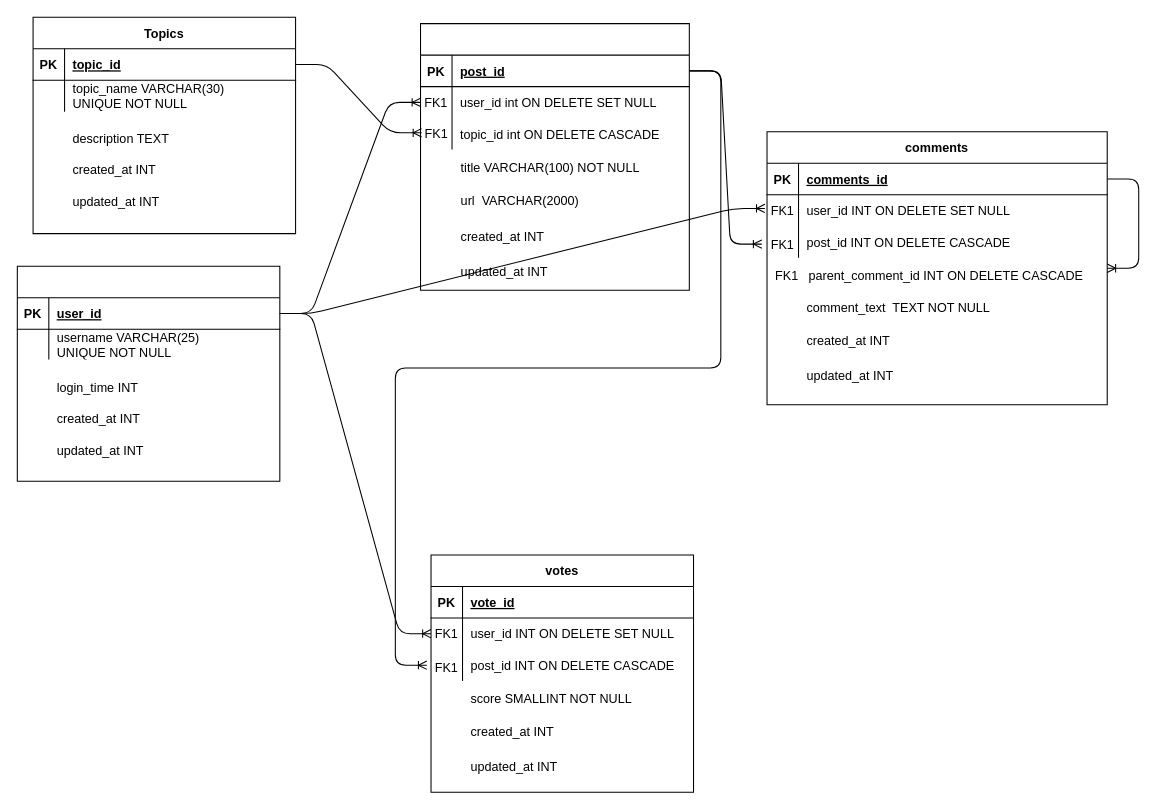
Image size: 1156x810. Some labels were removed from this diagram. The shapes that lost their labels are listed below. From the top down, each one's box as (x1, y1, x2, y2) in pixels, then its label:
(419, 23, 689, 290): posts
(16, 265, 280, 481): users
